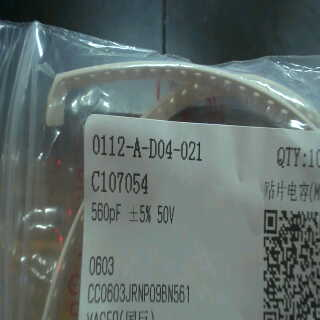560pF: (87, 198, 125, 227)
